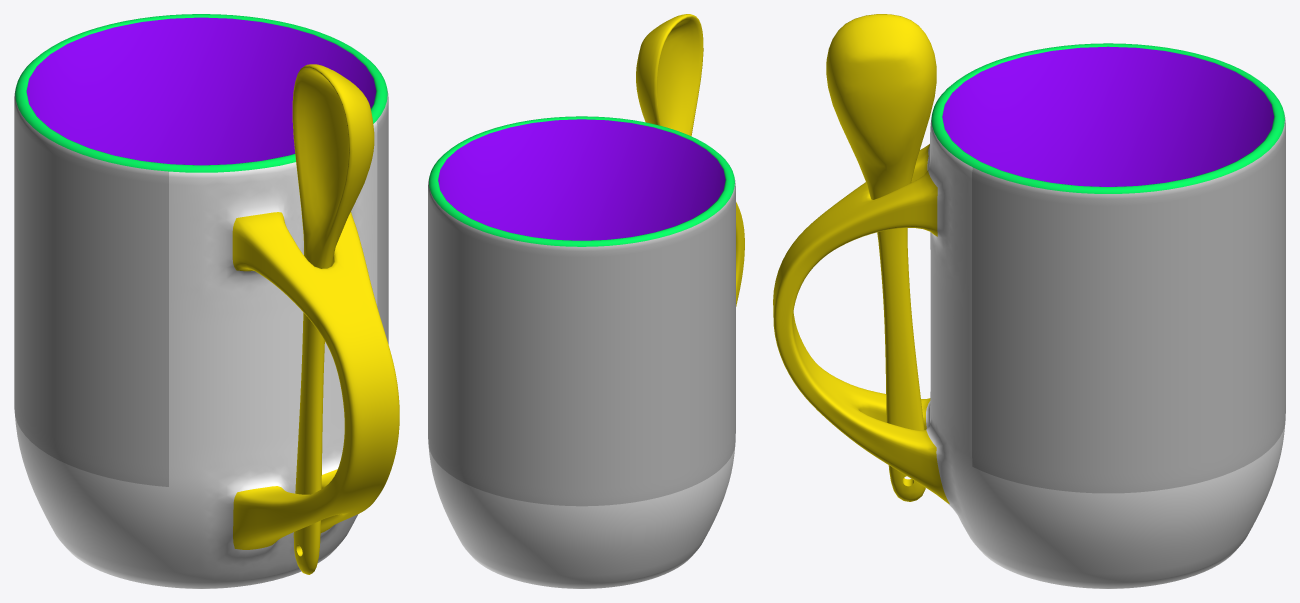
File: caneca_colher.gltf
The picture shows the model from 3 angles, left to right: view 1: azimuth 30°, elevation 25°; view 2: azimuth 150°, elevation 25°; view 3: azimuth 270°, elevation 25°; orthographic projection. The views are drawn at different scales.
Visible parts, largest first — view 1: Cylinder001; view 2: Cylinder001; view 3: Cylinder001.
Part boxes in pixels (<box>): Cylinder001: <box>14,14,399,588</box>; Cylinder001: <box>428,14,744,588</box>; Cylinder001: <box>773,14,1285,588</box>.
Size of the model in its own units: 2 by 3.24 by 2.89.
